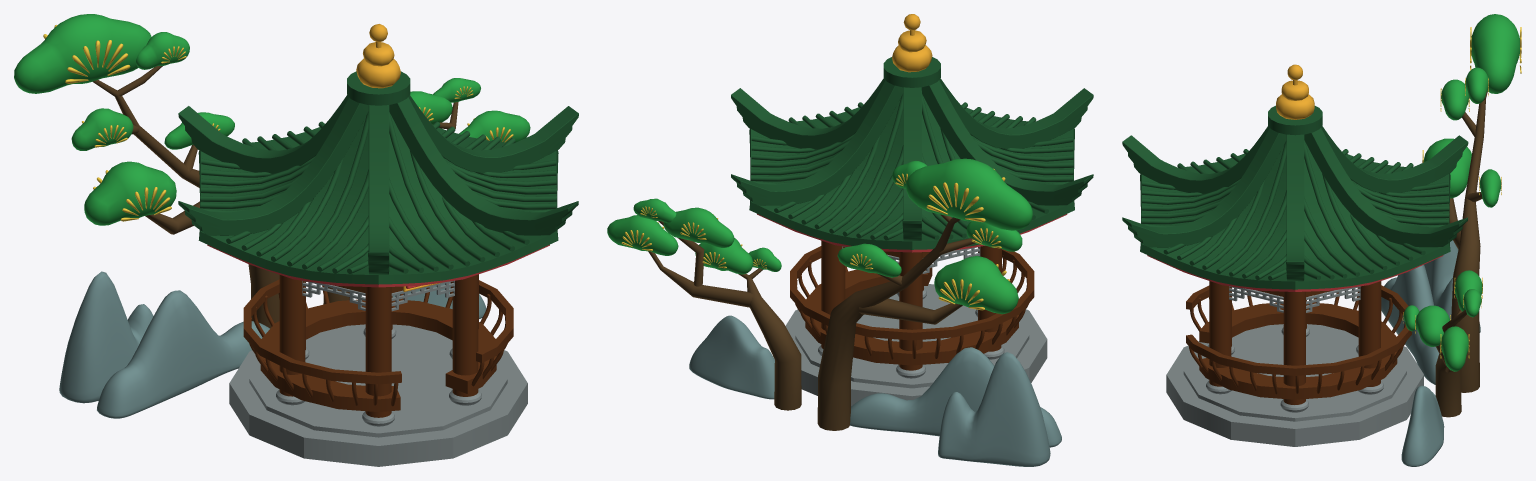
The model's file is Pavilion.fbx.
3 views of the same model, side by side, from view 1: azimuth 30°, elevation 25°; view 2: azimuth 150°, elevation 25°; view 3: azimuth 270°, elevation 25° (orthographic). The views are drawn at different scales.
Visible parts, largest first — view 1: pavilion_wood_01.007, pavilion_base_01.007, pavilion_seat_01.007, pavilion_base_02.007, mountain_02.007, mountain_03.007, tree_A_branch_01.002, pavilion_top_09.007, pavilion_top_07.007, pavilion_top_15.007, pavilion_top_14.007, pavilion_top_06.007 (+25 smaller); view 2: pavilion_wood_01.007, mountain_03.007, pavilion_seat_01.007, tree_A_01.002, mountain_02.007, tree_A_branch_01.002, mountain_01.007, pavilion_top_11.007, tree_B_01.002, pavilion_base_01.007, pavilion_top_07.007, pavilion_top_12.007 (+24 smaller); view 3: pavilion_wood_01.007, pavilion_seat_01.007, pavilion_base_02.007, pavilion_base_01.007, tree_A_01.002, pavilion_top_11.007, pavilion_top_09.007, pavilion_top_17.007, pavilion_top_16.007, pavilion_top_06.007, pavilion_top_08.007, tree_A_branch_01.002 (+27 smaller).
Part boxes in pixels (x1,y1,x2,y2): pavilion_wood_01.007: [198, 114, 558, 284]; pavilion_base_01.007: [249, 326, 507, 437]; pavilion_seat_01.007: [243, 279, 513, 411]; pavilion_base_02.007: [229, 324, 527, 466]; mountain_02.007: [97, 290, 269, 418]; mountain_03.007: [59, 271, 153, 403]; tree_A_branch_01.002: [14, 14, 151, 93]; pavilion_top_09.007: [389, 97, 578, 235]; pavilion_top_07.007: [178, 97, 368, 235]; pavilion_top_15.007: [389, 112, 529, 273]; pavilion_top_14.007: [226, 112, 368, 273]; pavilion_top_06.007: [178, 95, 348, 173]; pavilion_wood_01.007: [749, 96, 1074, 249]; mountain_03.007: [938, 352, 1050, 466]; pavilion_seat_01.007: [790, 246, 1034, 365]; tree_A_01.002: [817, 214, 975, 430]; mountain_02.007: [850, 347, 1061, 447]; tree_A_branch_01.002: [906, 158, 1032, 230]; mountain_01.007: [689, 315, 774, 399]; pavilion_top_11.007: [731, 80, 903, 205]; tree_B_01.002: [648, 251, 801, 410]; pavilion_base_01.007: [795, 287, 1029, 388]; pavilion_top_07.007: [921, 80, 1093, 205]; pavilion_top_12.007: [774, 93, 903, 240]; pavilion_wood_01.007: [1140, 143, 1450, 289]; pavilion_seat_01.007: [1186, 285, 1411, 399]; pavilion_base_02.007: [1166, 324, 1423, 446]; pavilion_base_01.007: [1183, 325, 1406, 421]; tree_A_01.002: [1449, 91, 1487, 392]; pavilion_top_11.007: [1304, 128, 1467, 247]; pavilion_top_09.007: [1122, 128, 1286, 247]; pavilion_top_17.007: [1304, 140, 1425, 280]; pavilion_top_16.007: [1163, 140, 1286, 280]; pavilion_top_06.007: [1321, 126, 1468, 193]; pavilion_top_08.007: [1122, 126, 1269, 193]; tree_A_branch_01.002: [1471, 14, 1519, 93].
Bounding box in the file's own units: 863 × 642 × 705.
